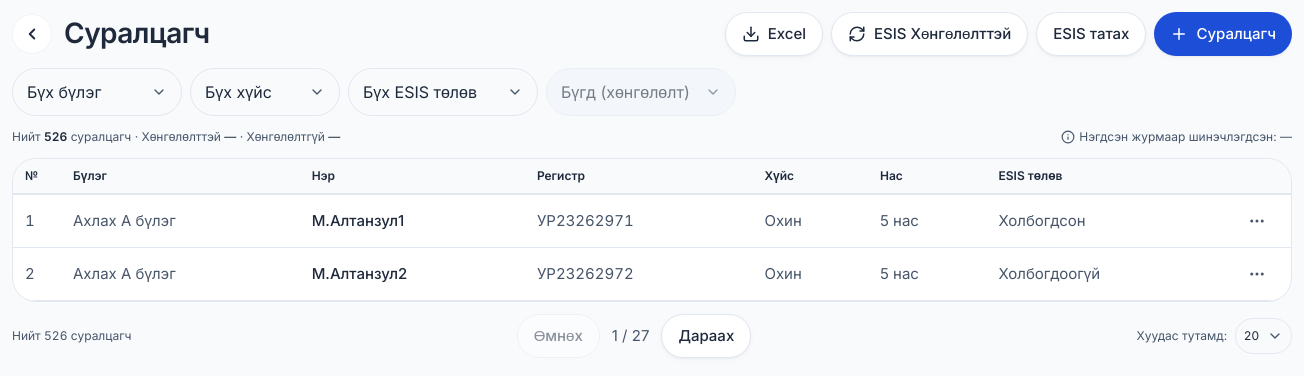
it: the director's roster › fills Хөнгөлөлт from ESIS on press, and ESIS төлөв from the row
Expected: the row "1 Ахлах А бүлэг М.Алтанзул1 УР23262971 Охин 5 нас Холбогдсон" is shown, [13,195,1291,248]
Expected: the 3rd row shows "Холбогдоогүй", [998,264,1100,283]
Click the button "ESIS Хөнгөлөлттэй".
click(930, 34)  # box [831,12,1028,56]
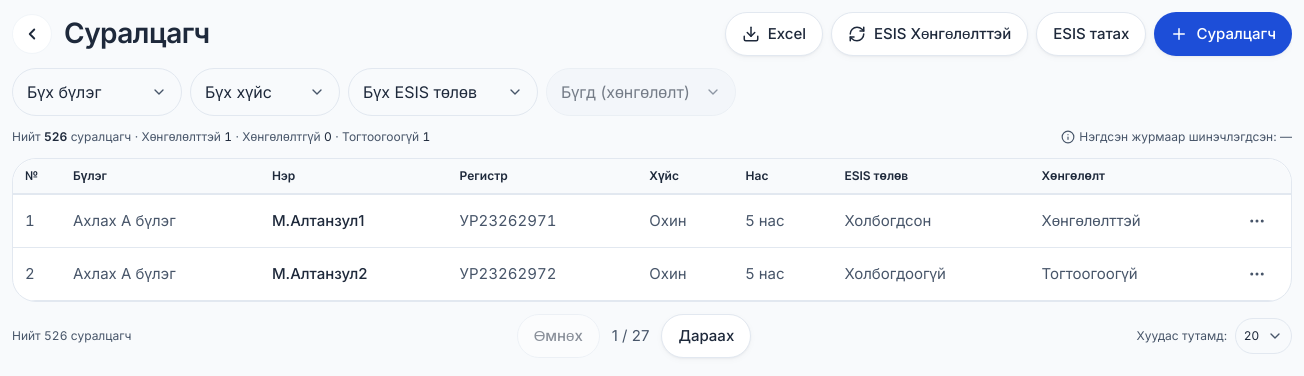
Expected: the text "Хөнгөлөлттэй" is shown, [1029,195,1223,248]
Expected: the 3rd row shows "Тогтоогоогүй", [1041,264,1138,283]
